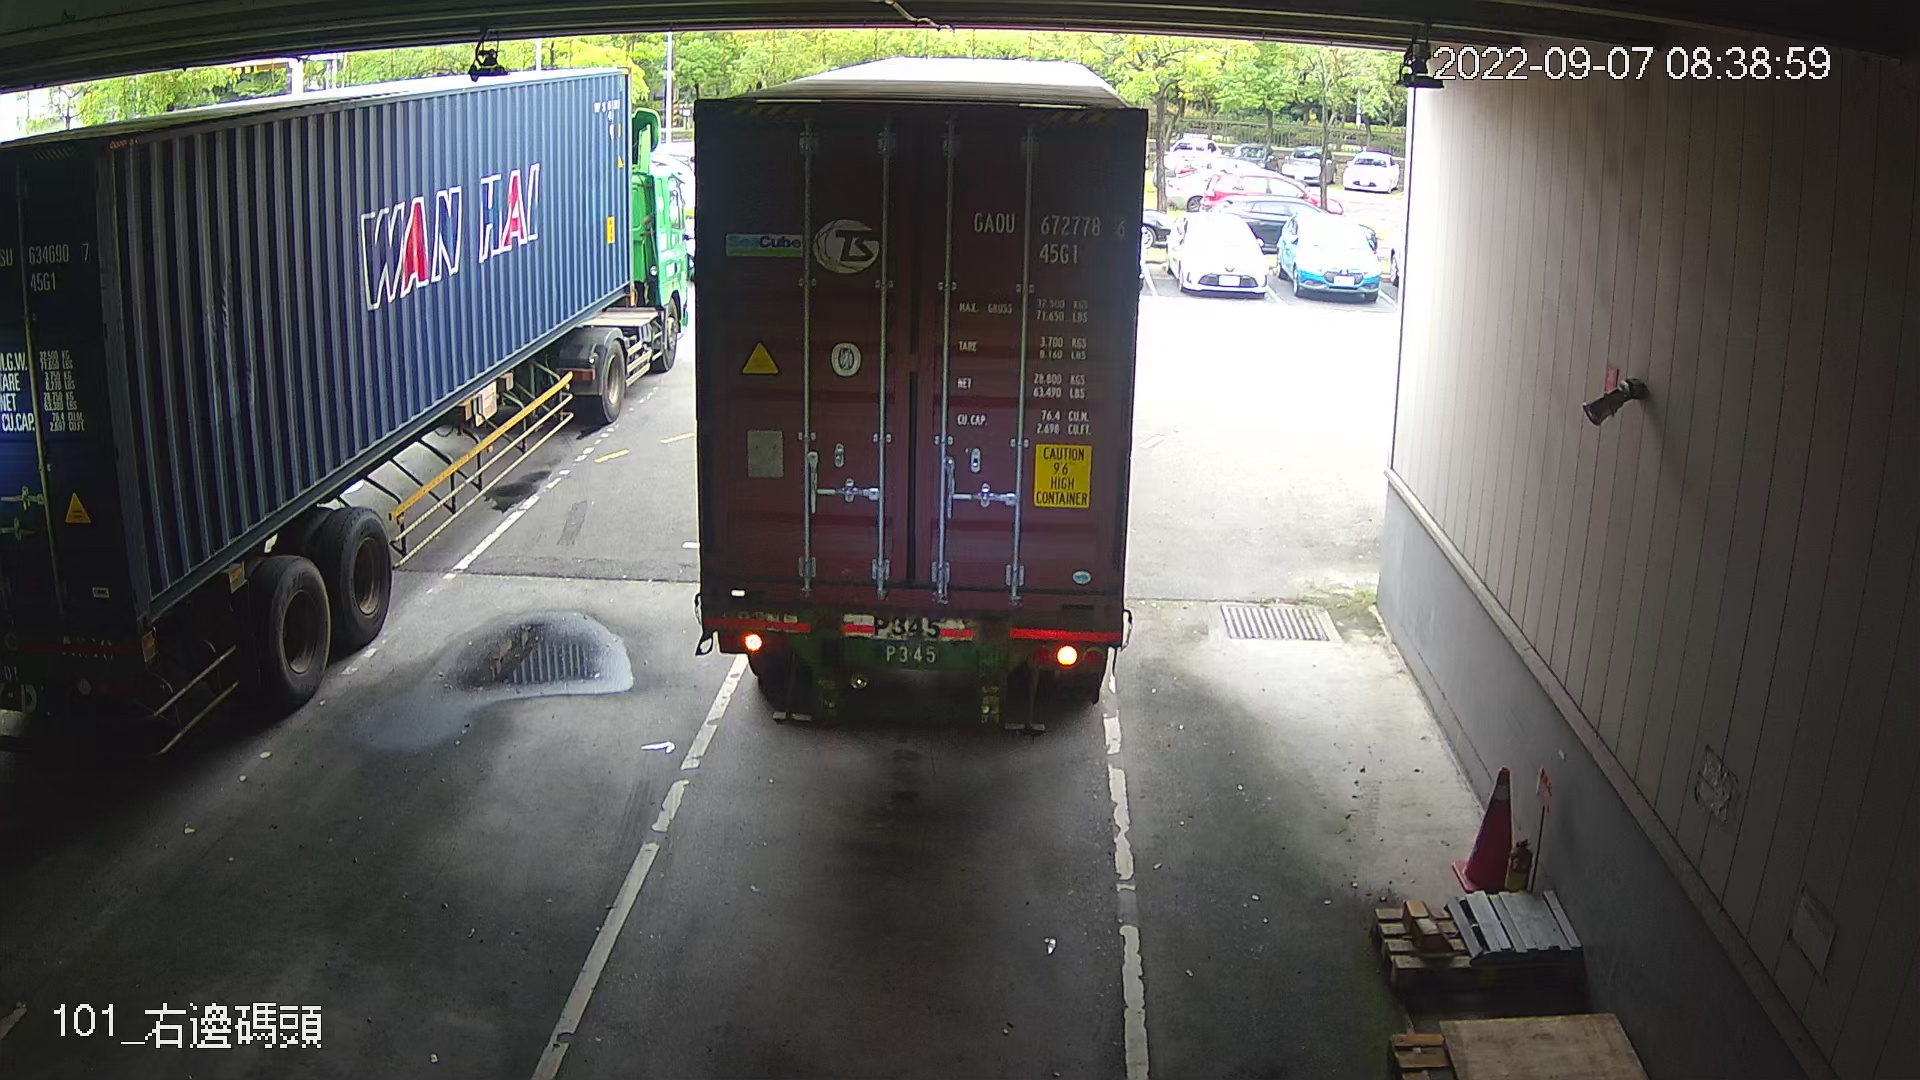container: (960, 200, 1134, 276)
